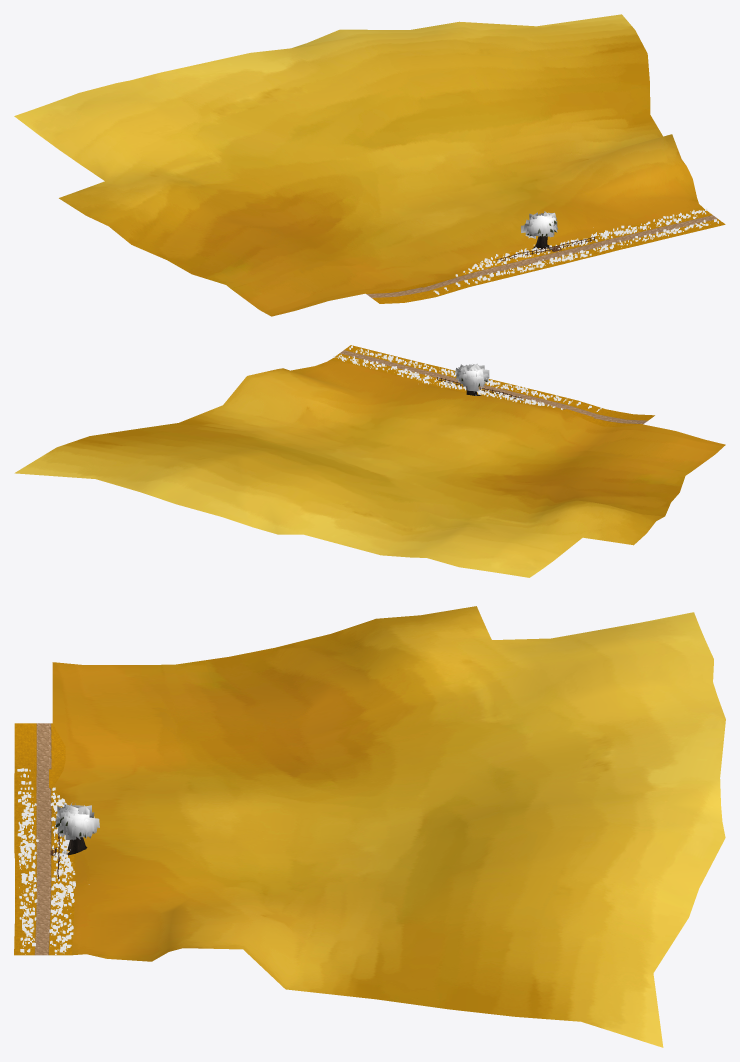
Rendered from ta_outside 1.fbx.
3 views of the same model, one above another, from view 1: azimuth 30°, elevation 25°; view 2: azimuth 150°, elevation 25°; view 3: azimuth 270°, elevation 25° (orthographic). The views are drawn at different scales.
Visible parts, largest first — view 1: Plane.016, Plane.840, Cylinder; view 2: Plane.016, Plane.840, Cylinder; view 3: Plane.016, Plane.840, Cylinder.
Boxes of the visible parts, bbox=[...] form: Plane.016: bbox=[14, 14, 725, 316]; Plane.840: bbox=[433, 208, 721, 294]; Cylinder: bbox=[521, 211, 557, 248]; Plane.016: bbox=[14, 345, 725, 577]; Plane.840: bbox=[333, 345, 601, 411]; Cylinder: bbox=[455, 363, 489, 395]; Plane.016: bbox=[14, 606, 725, 1047]; Plane.840: bbox=[17, 768, 89, 954]; Cylinder: bbox=[55, 802, 99, 855].
Bounding box in the file's own units: 11501 × 787 × 8384.
